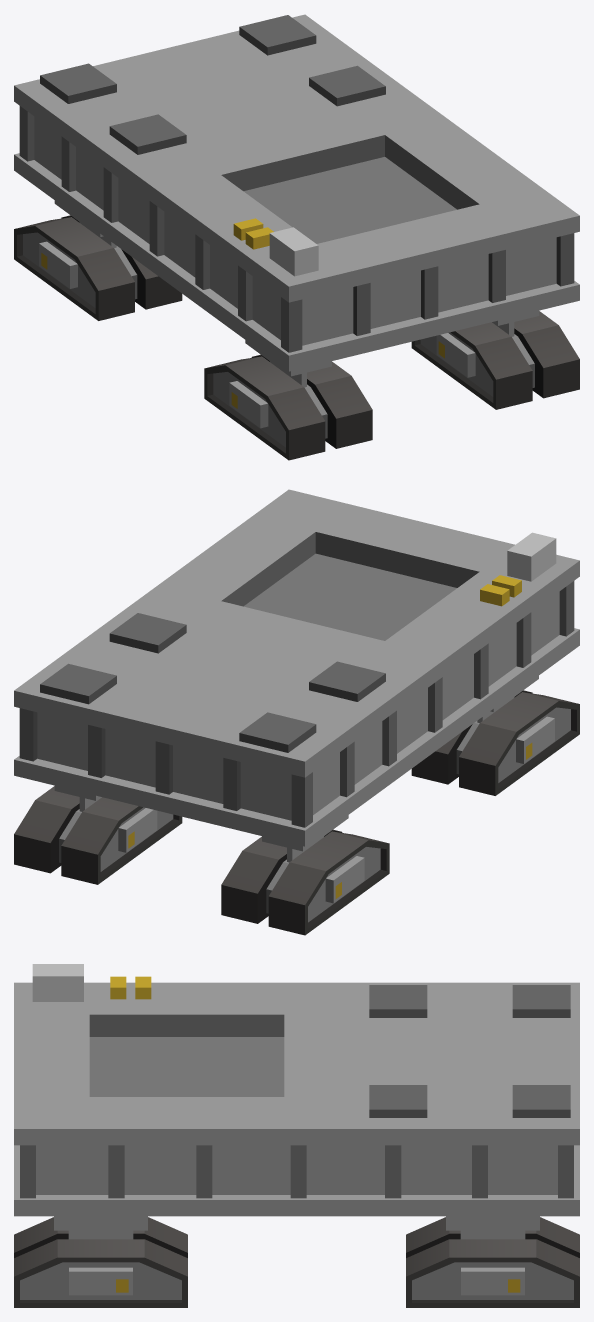
The model's file is SM_Bld_ShuttleLaunchPad_01.fbx.
The picture shows the model from 3 angles, top to bottom: view 1: azimuth 30°, elevation 25°; view 2: azimuth 150°, elevation 25°; view 3: azimuth 270°, elevation 25°; orthographic projection. The views are drawn at different scales.
Visible parts, largest first — view 1: SM_Bld_ShuttleLaunchPad_01; view 2: SM_Bld_ShuttleLaunchPad_01; view 3: SM_Bld_ShuttleLaunchPad_01.
Part boxes in pixels (<box>): SM_Bld_ShuttleLaunchPad_01: <box>14,14,579,460</box>; SM_Bld_ShuttleLaunchPad_01: <box>14,489,579,935</box>; SM_Bld_ShuttleLaunchPad_01: <box>14,964,579,1307</box>.
Size of the model in its own units: 16.8 by 10.84 by 27.15.
